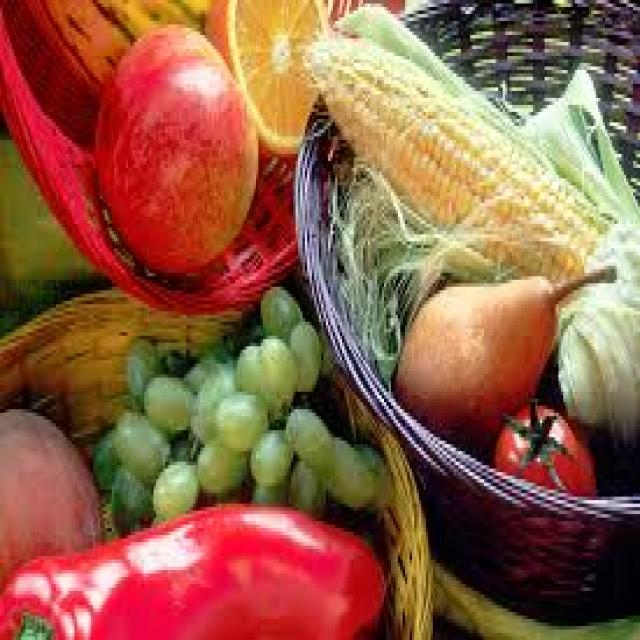organic waste: (300, 18, 638, 298), (0, 504, 382, 636), (88, 21, 256, 273), (391, 262, 617, 437), (202, 0, 332, 157), (0, 399, 100, 570), (493, 398, 596, 496), (23, 0, 133, 77), (112, 409, 170, 483), (97, 0, 207, 38), (282, 406, 331, 482), (191, 356, 233, 441), (144, 371, 196, 434), (328, 430, 370, 507), (214, 388, 265, 451), (193, 434, 244, 496), (354, 437, 393, 514), (258, 332, 296, 402), (184, 339, 233, 392), (110, 469, 154, 528), (284, 315, 316, 395), (124, 336, 158, 406), (249, 427, 289, 486), (235, 343, 270, 409), (149, 462, 193, 511), (258, 283, 298, 336), (286, 455, 321, 514), (93, 423, 112, 490), (251, 479, 282, 504)
